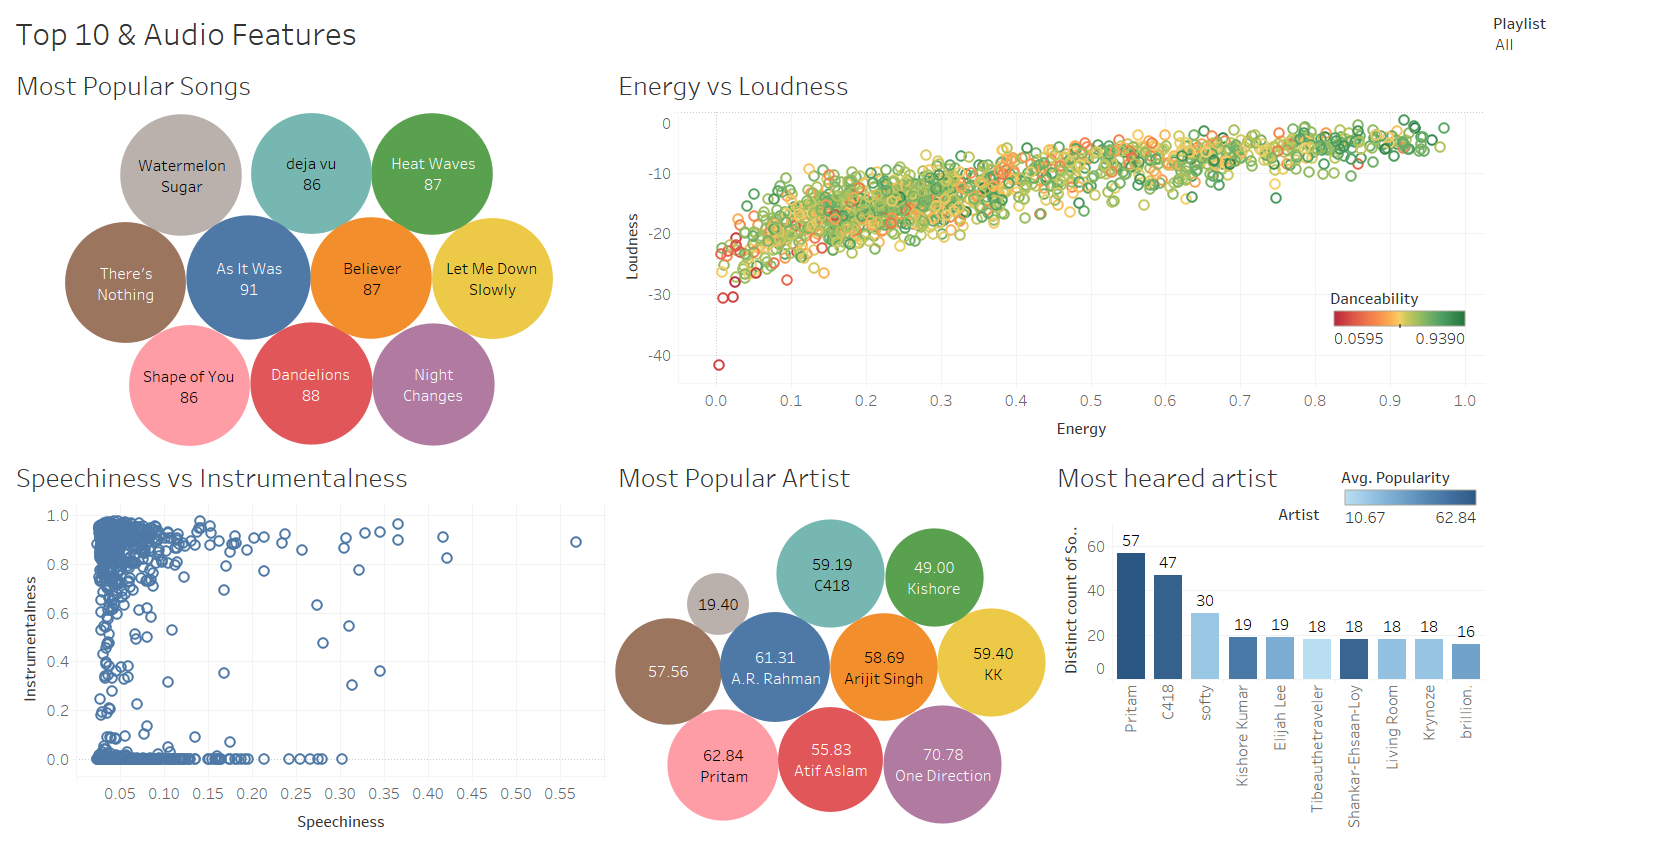

The page's visual inventory and layout, read from the dashboard file:
{"tool":"tableau","page":{"name":"Dashboard 2","canvas":[1000,1000],"units":"permille","ordinal":1},"visuals":[{"type":"title","box":[4.8,9.4,893.8,58.8]},{"type":"filter","title":"Most heared artist","param":"[federated.1tyk5f20gfc3fu13wewg218x3qvs].[none:playlist:nk]","box":[898.6,9.4,96.6,71.7]},{"type":"worksheet","title":"Most Popular Songs","mark":"Circle","box":[4.8,68.2,363.3,461.2]},{"type":"worksheet","title":"Energy vs Loudness","mark":"Automatic","rows":["loudness"],"cols":["energy"],"box":[368.1,68.2,530.5,461.2]},{"type":"legend","title":"Energy vs Loudness","param":"[federated.1tyk5f20gfc3fu13wewg218x3qvs].[sum:danceability:qk]","box":[802.7,333.7,84.5,103.4]},{"type":"worksheet","title":"Speechiness vs Instrumentalness","mark":"Automatic","rows":["instrumentalness"],"cols":["speechiness"],"box":[4.8,529.4,363.3,461.2]},{"type":"worksheet","title":"Most Popular Artist","mark":"Circle","box":[368.1,529.4,265.2,461.2]},{"type":"worksheet","title":"Most heared artist","mark":"Bar","rows":["songs"],"cols":["artist"],"box":[633.4,529.4,265.2,461.2]},{"type":"legend","title":"Most heared artist","param":"[federated.1tyk5f20gfc3fu13wewg218x3qvs].[avg:popularity:qk]","box":[809.3,544.1,84.5,103.4]}]}

Visuals, with their boxes on the dashboard's canvas, which has no fixed pixel size, in thousandths of its width and height (x1, y1, x2, y2). These are canvas units, not pixel positions in the 1657x851 screenshot, which may show the page scaled, cropped or inside an application window:
title: locate(5, 9, 899, 68)
"Most heared artist" filter: locate(899, 9, 995, 81)
"Most Popular Songs" worksheet (Circle marks): locate(5, 68, 368, 529)
"Energy vs Loudness" worksheet: locate(368, 68, 899, 529)
"Energy vs Loudness" legend: locate(803, 334, 887, 437)
"Speechiness vs Instrumentalness" worksheet: locate(5, 529, 368, 991)
"Most Popular Artist" worksheet (Circle marks): locate(368, 529, 633, 991)
"Most heared artist" worksheet (Bar marks): locate(633, 529, 899, 991)
"Most heared artist" legend: locate(809, 544, 894, 648)
